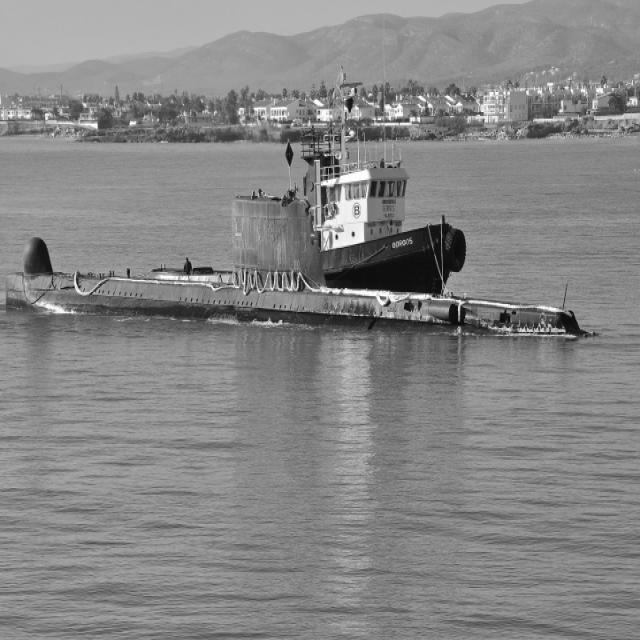submarine: (3, 193, 590, 340)
